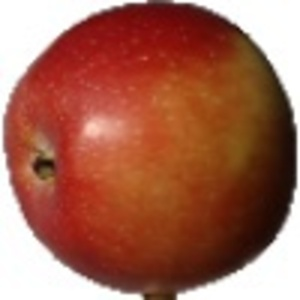maçã braeburn: (1, 3, 300, 293)
